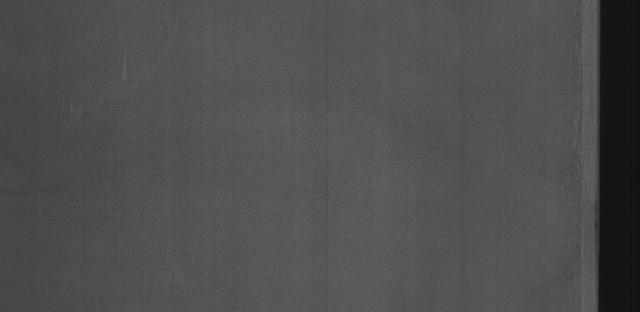silk_spot: (37, 25, 195, 131)
